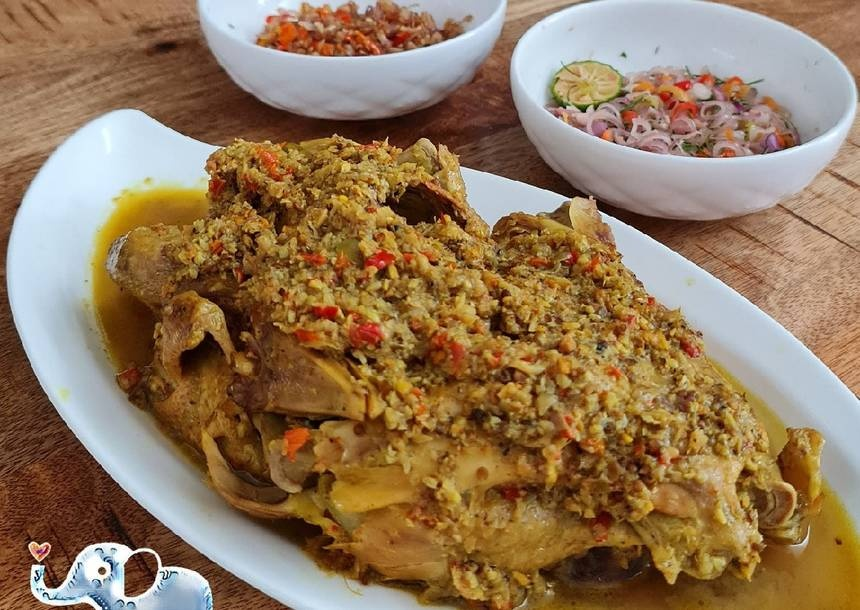ayam_betutu: (107, 137, 825, 600)
